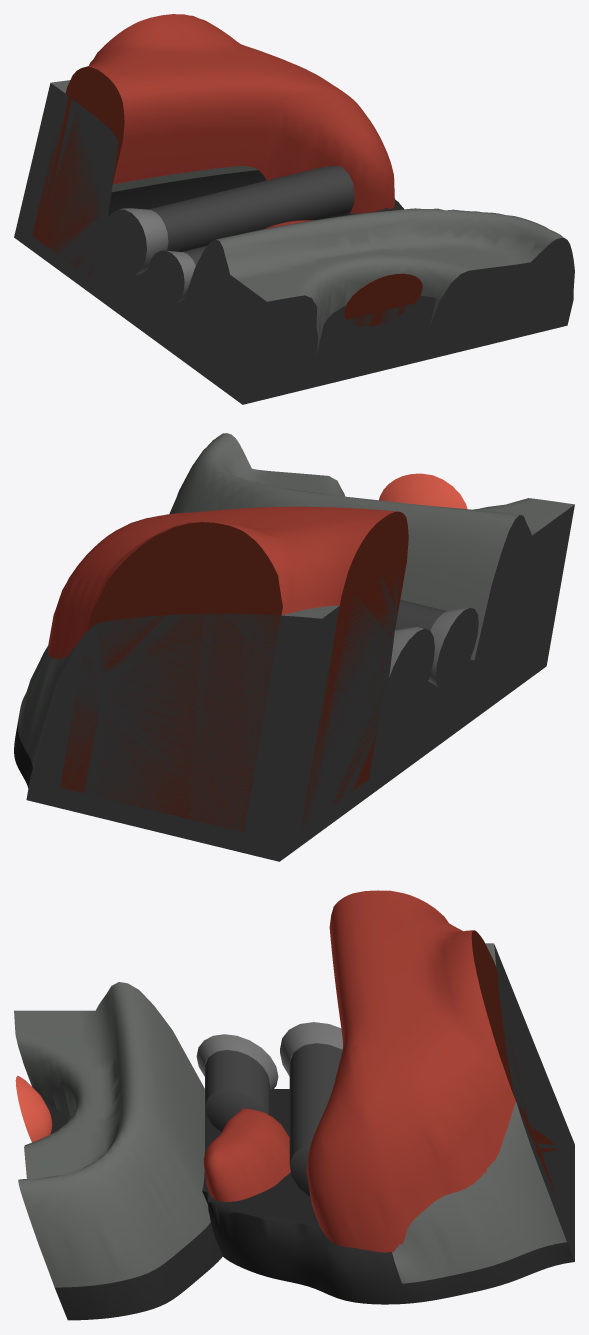
Rendered from dome_head_51.glb.
The picture shows the model from 3 angles, top to bottom: view 1: azimuth 30°, elevation 25°; view 2: azimuth 150°, elevation 25°; view 3: azimuth 270°, elevation 25°; orthographic projection. The views are drawn at different scales.
Parts seen in each view (by area): view 1: dome_head_51; view 2: dome_head_51; view 3: dome_head_51.
Boxes of the visible parts, x1=… form: dome_head_51: x1=14, y1=14, x2=574, y2=404; dome_head_51: x1=14, y1=433, x2=574, y2=861; dome_head_51: x1=14, y1=890, x2=574, y2=1320.
Size of the model in its own units: 22.96 by 15.67 by 30.97.
